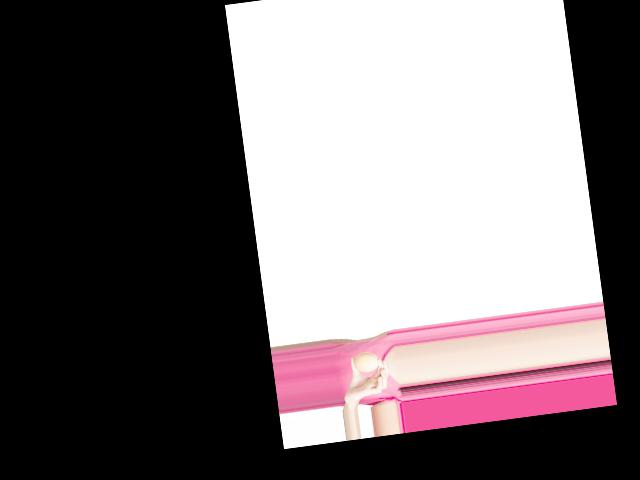egg: (352, 351, 380, 374)
